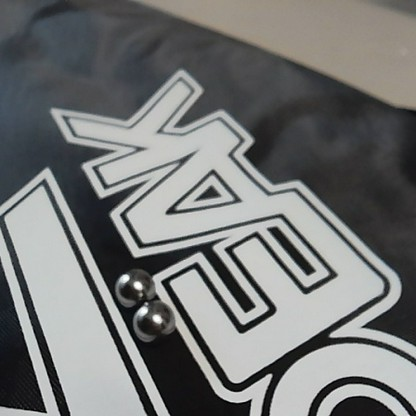ironball: (134, 301, 176, 340), (113, 269, 154, 302)
